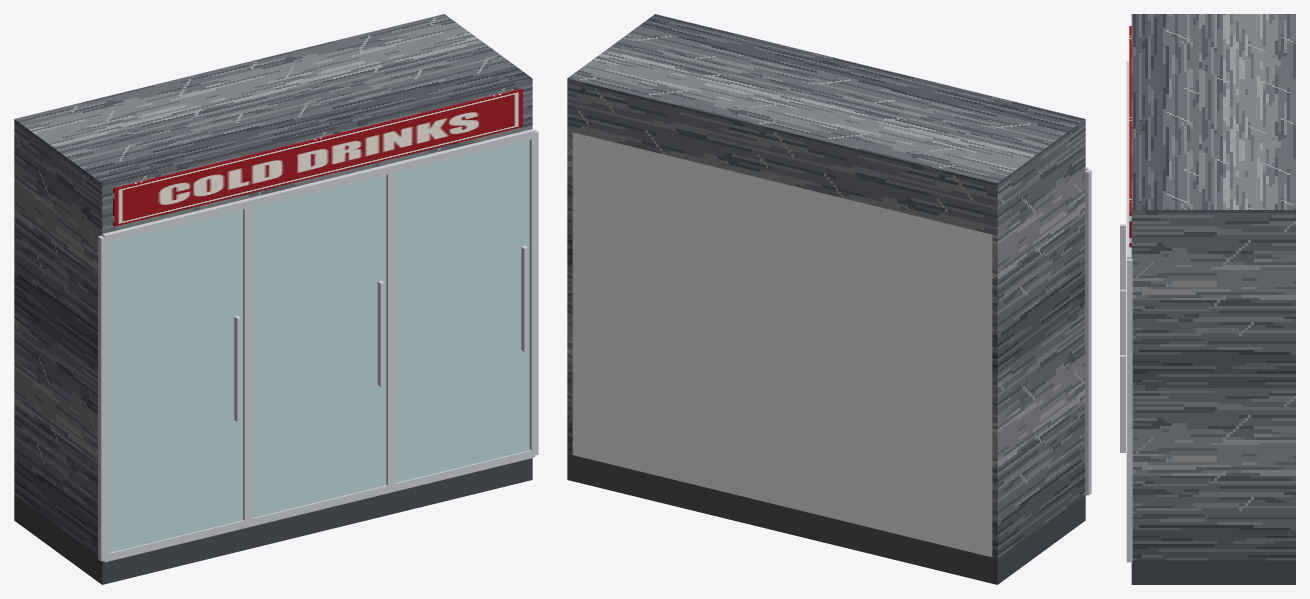
Rendered from MKT_WallFridge_drinks.glb.
The picture shows the model from 3 angles, left to right: view 1: azimuth 30°, elevation 25°; view 2: azimuth 150°, elevation 25°; view 3: azimuth 270°, elevation 25°; orthographic projection. The views are drawn at different scales.
Parts seen in each view (by area): view 1: WallFridge; view 2: WallFridge; view 3: WallFridge.
Boxes of the visible parts, x1=… form: WallFridge: x1=14, y1=14, x2=538, y2=584; WallFridge: x1=567, y1=14, x2=1091, y2=584; WallFridge: x1=1120, y1=14, x2=1295, y2=584.
Bounding box in the file's own units: 2.44 × 2.14 × 0.91.
19 materials, 2 textured.
